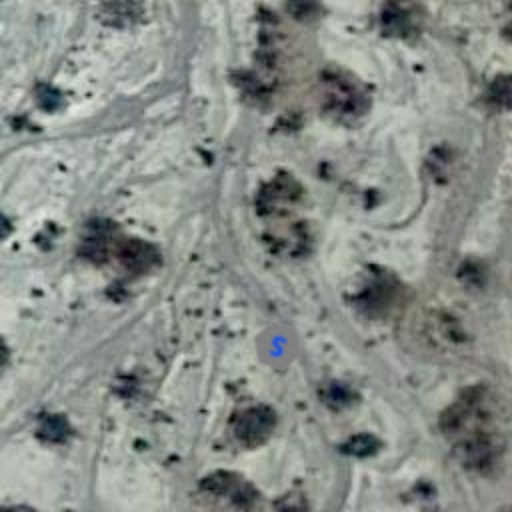hexagon: (244, 312, 312, 380)
